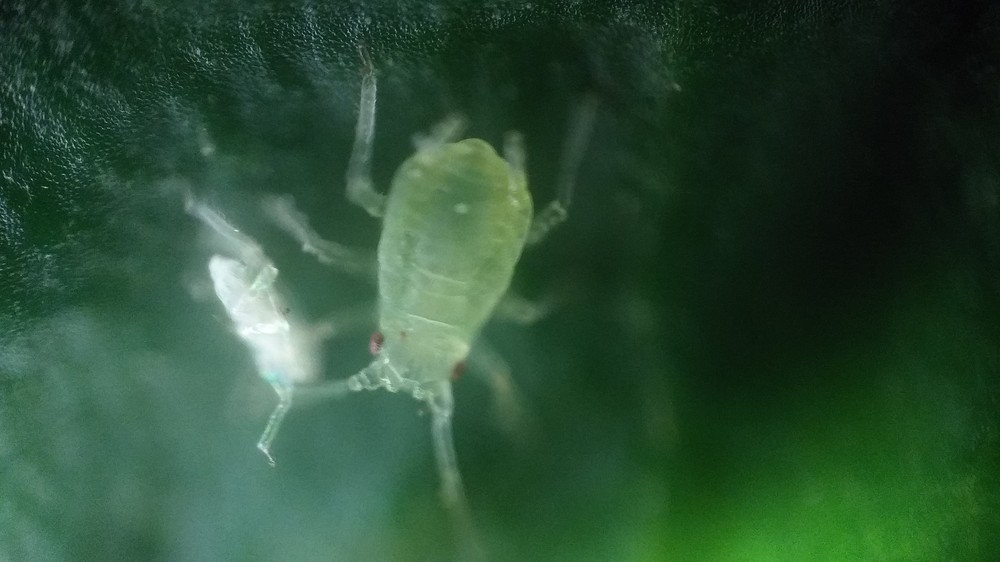Pulgon: (255, 70, 635, 547)
